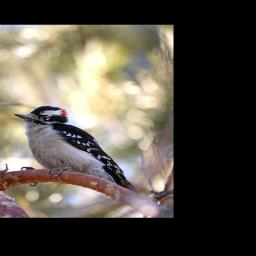Woodpecker: (14, 106, 137, 195)
